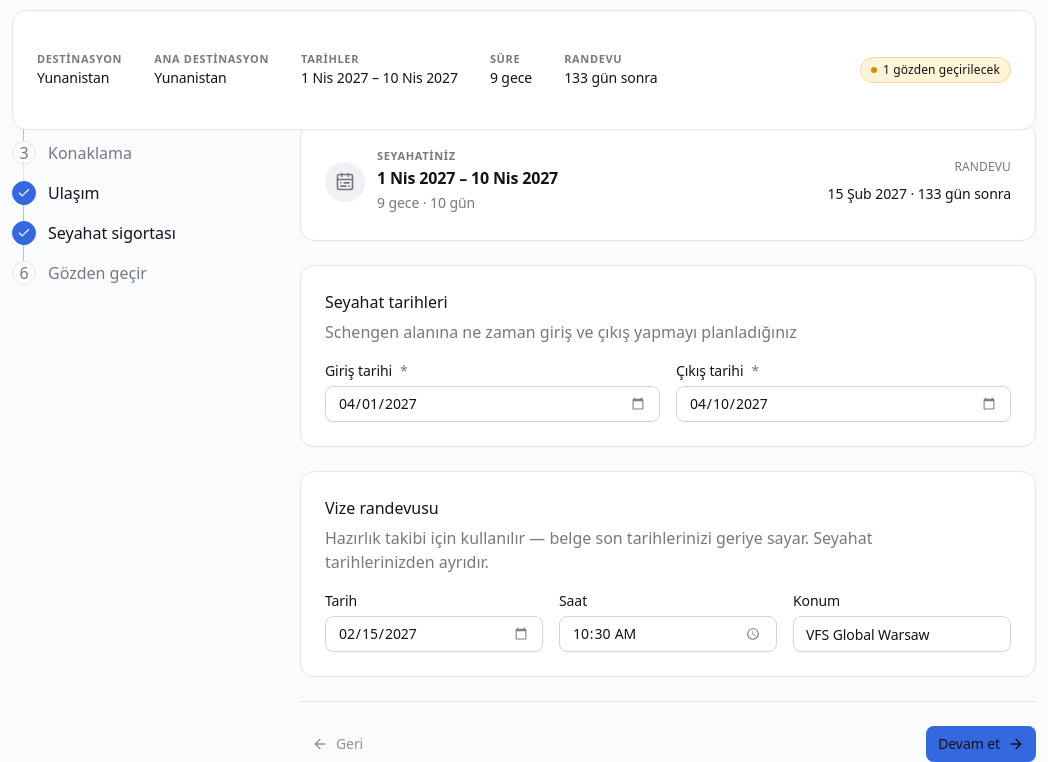
Trip planner — interaction › shows a premium empty state when a collection is empty
The image size is (1048, 762).
(page scrolled)
# dates → route → accommodation
Click the button "Devam et" at (981, 744), box 926,726 -> 1036,761
(page scrolled)
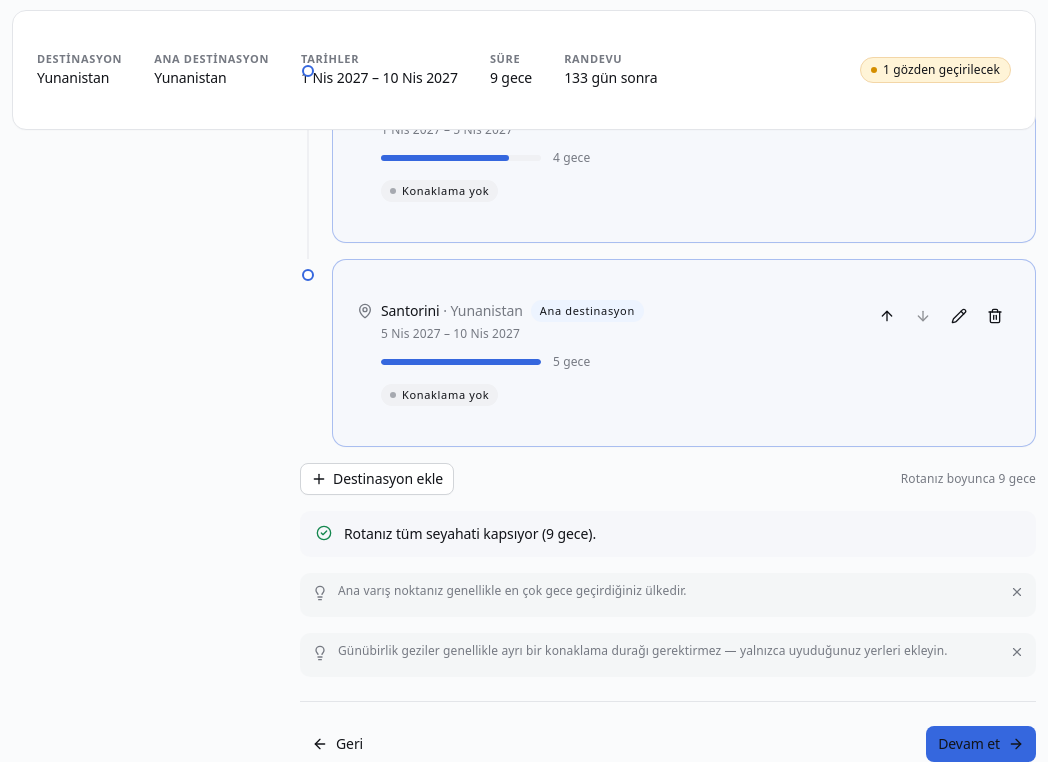
Click the button "Devam et" at (981, 744), box 926,726 -> 1036,761
(page scrolled)
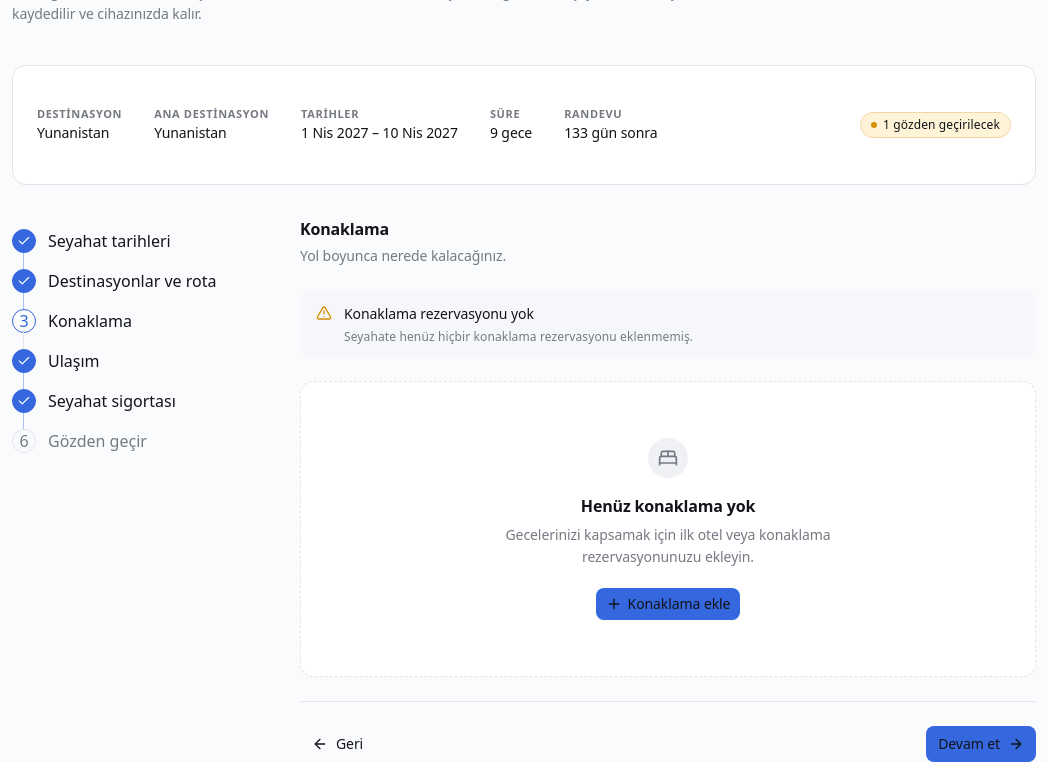
expect the heading "Henüz konaklama yok" is shown: met, box 581,494 -> 755,518
